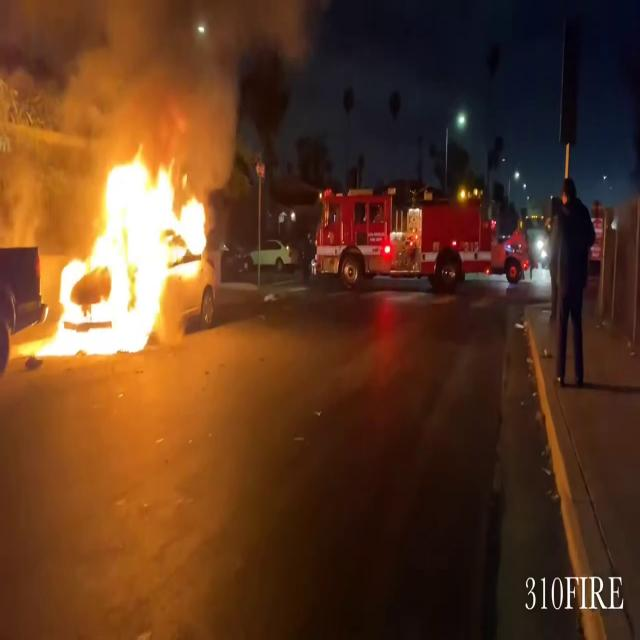Fire: (38, 141, 218, 360)
Smoke: (5, 0, 316, 166)
